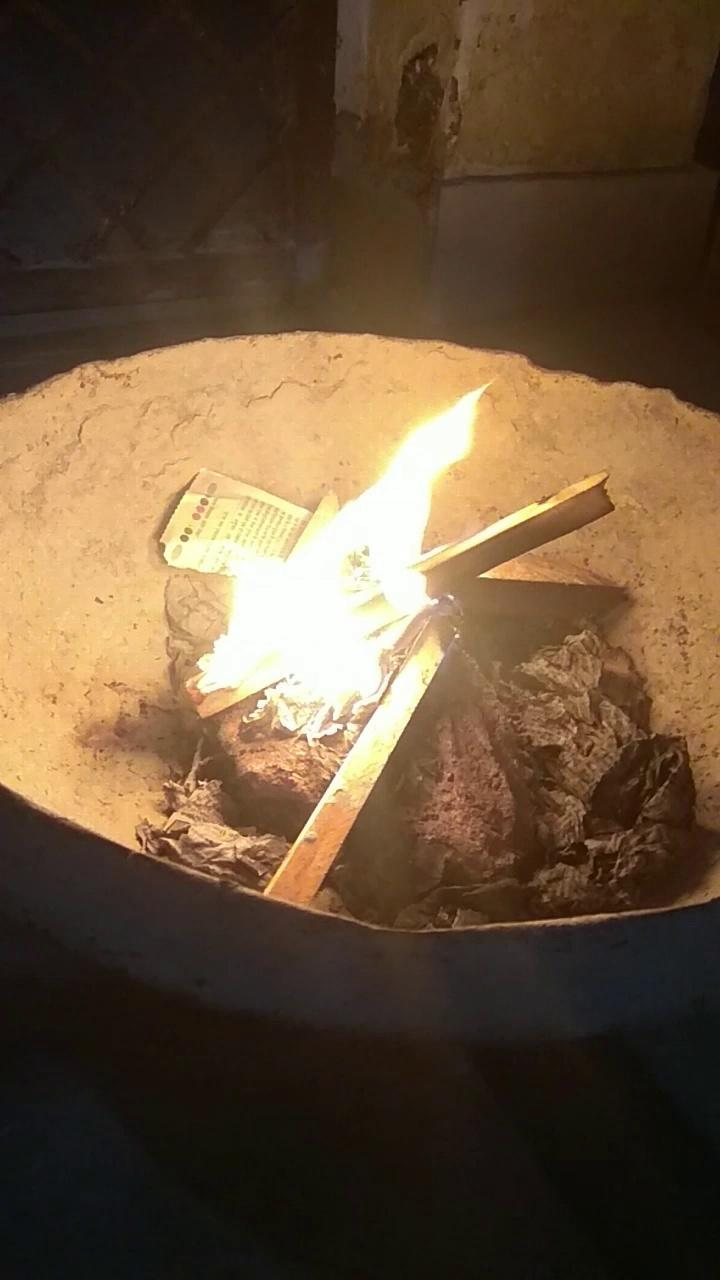fire: (173, 365, 522, 741)
